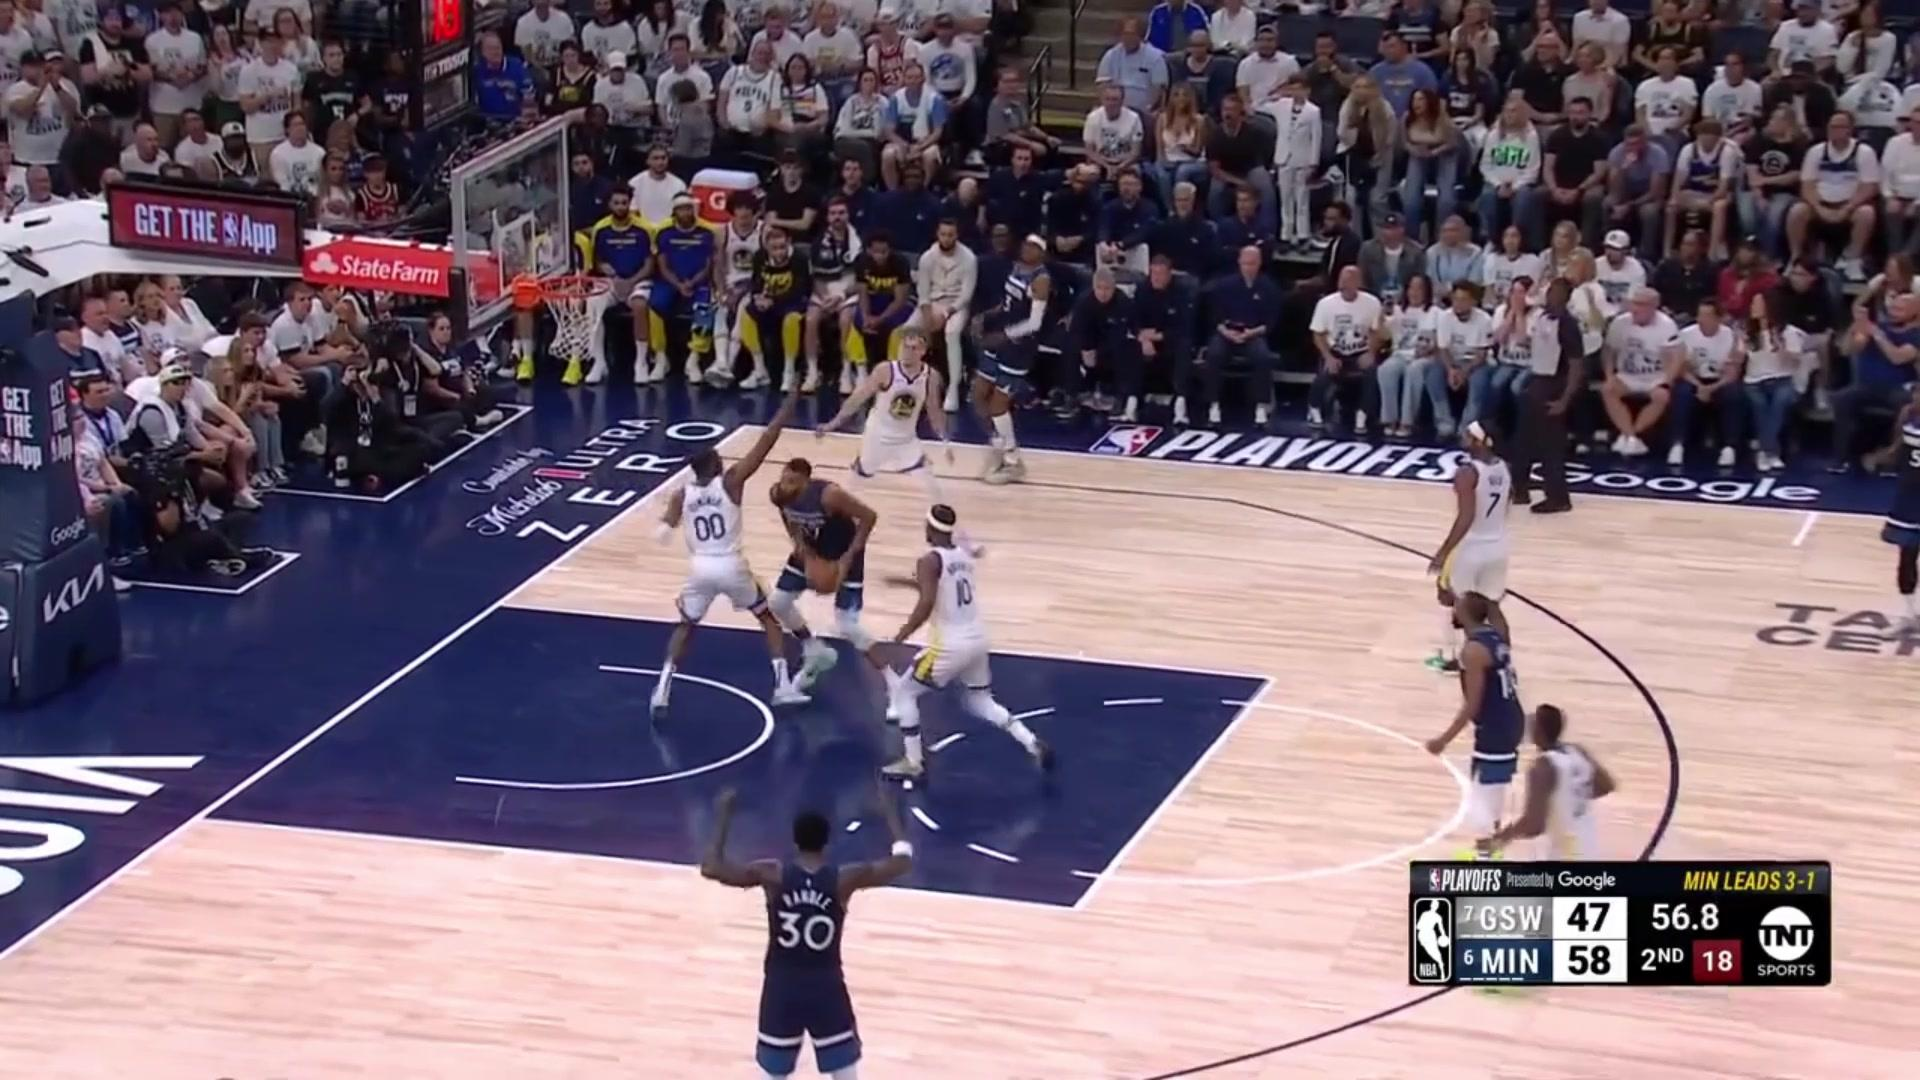no_foul: (655, 422, 882, 694)
